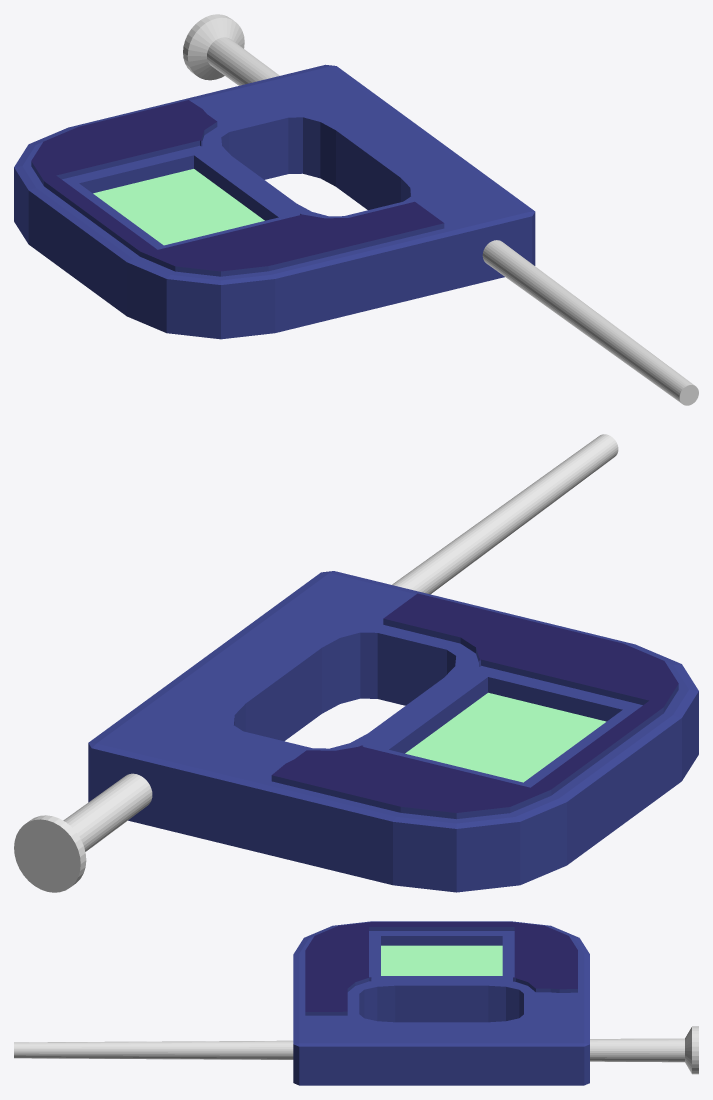
File: плотностьь.fbx
3 views of the same model, one above another, from view 1: azimuth 30°, elevation 25°; view 2: azimuth 150°, elevation 25°; view 3: azimuth 270°, elevation 25° (orthographic). The views are drawn at different scales.
Parts seen in each view (by area): view 1: Cylinder; view 2: Cylinder; view 3: Cylinder.
Boxes of the visible parts, x1,y1,x2,y2 form: Cylinder: [14, 14, 698, 405]; Cylinder: [14, 434, 698, 892]; Cylinder: [14, 921, 698, 1085].
Bounding box in the file's own units: 361 × 61.51 × 833.
